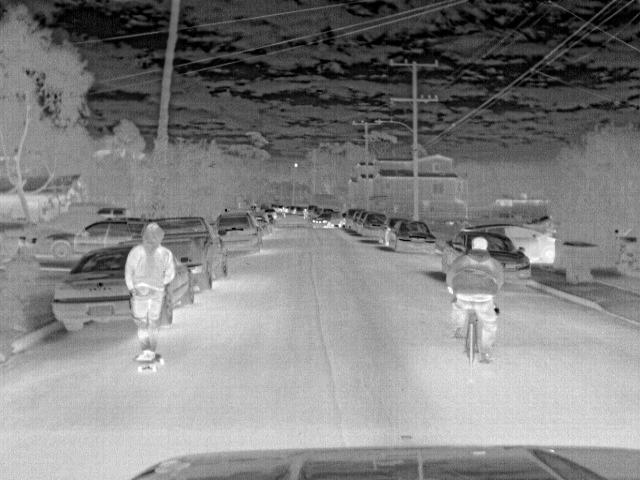car: (49, 243, 134, 332), (163, 215, 230, 289), (438, 230, 535, 281), (36, 219, 145, 260), (460, 225, 555, 265), (159, 256, 194, 325), (217, 211, 263, 250), (387, 220, 437, 253), (359, 209, 388, 240), (312, 212, 343, 228), (344, 210, 360, 228)
person: (126, 221, 180, 360), (449, 235, 502, 367)
